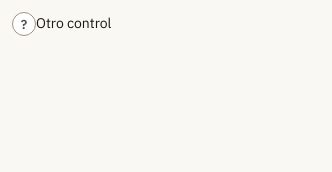
Test: la pieza NotaEmergente › la nota se anuncia: es una región de estado que existe cerrada y se llena al abrir
Click the button with class "nota-emergente__boton" at (24, 24), box left=12, top=12, right=36, bottom=36
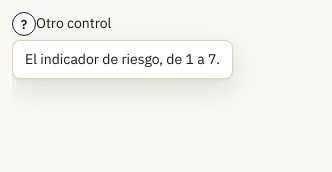
expect the button with class "nota-emergente__boton" is expanded: met
expect the message with class "nota-emergente__nota" reads "El indicador de riesgo, de 1 a 7.": met, box left=25, top=50, right=220, bottom=68
Click the button with class "nota-emergente__boton" at (24, 24), box left=12, top=12, right=36, bottom=36
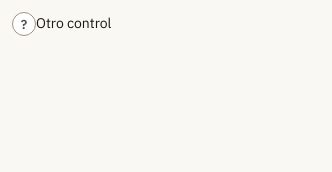
expect the button with class "nota-emergente__boton" is collapsed: met, box left=12, top=12, right=36, bottom=36
